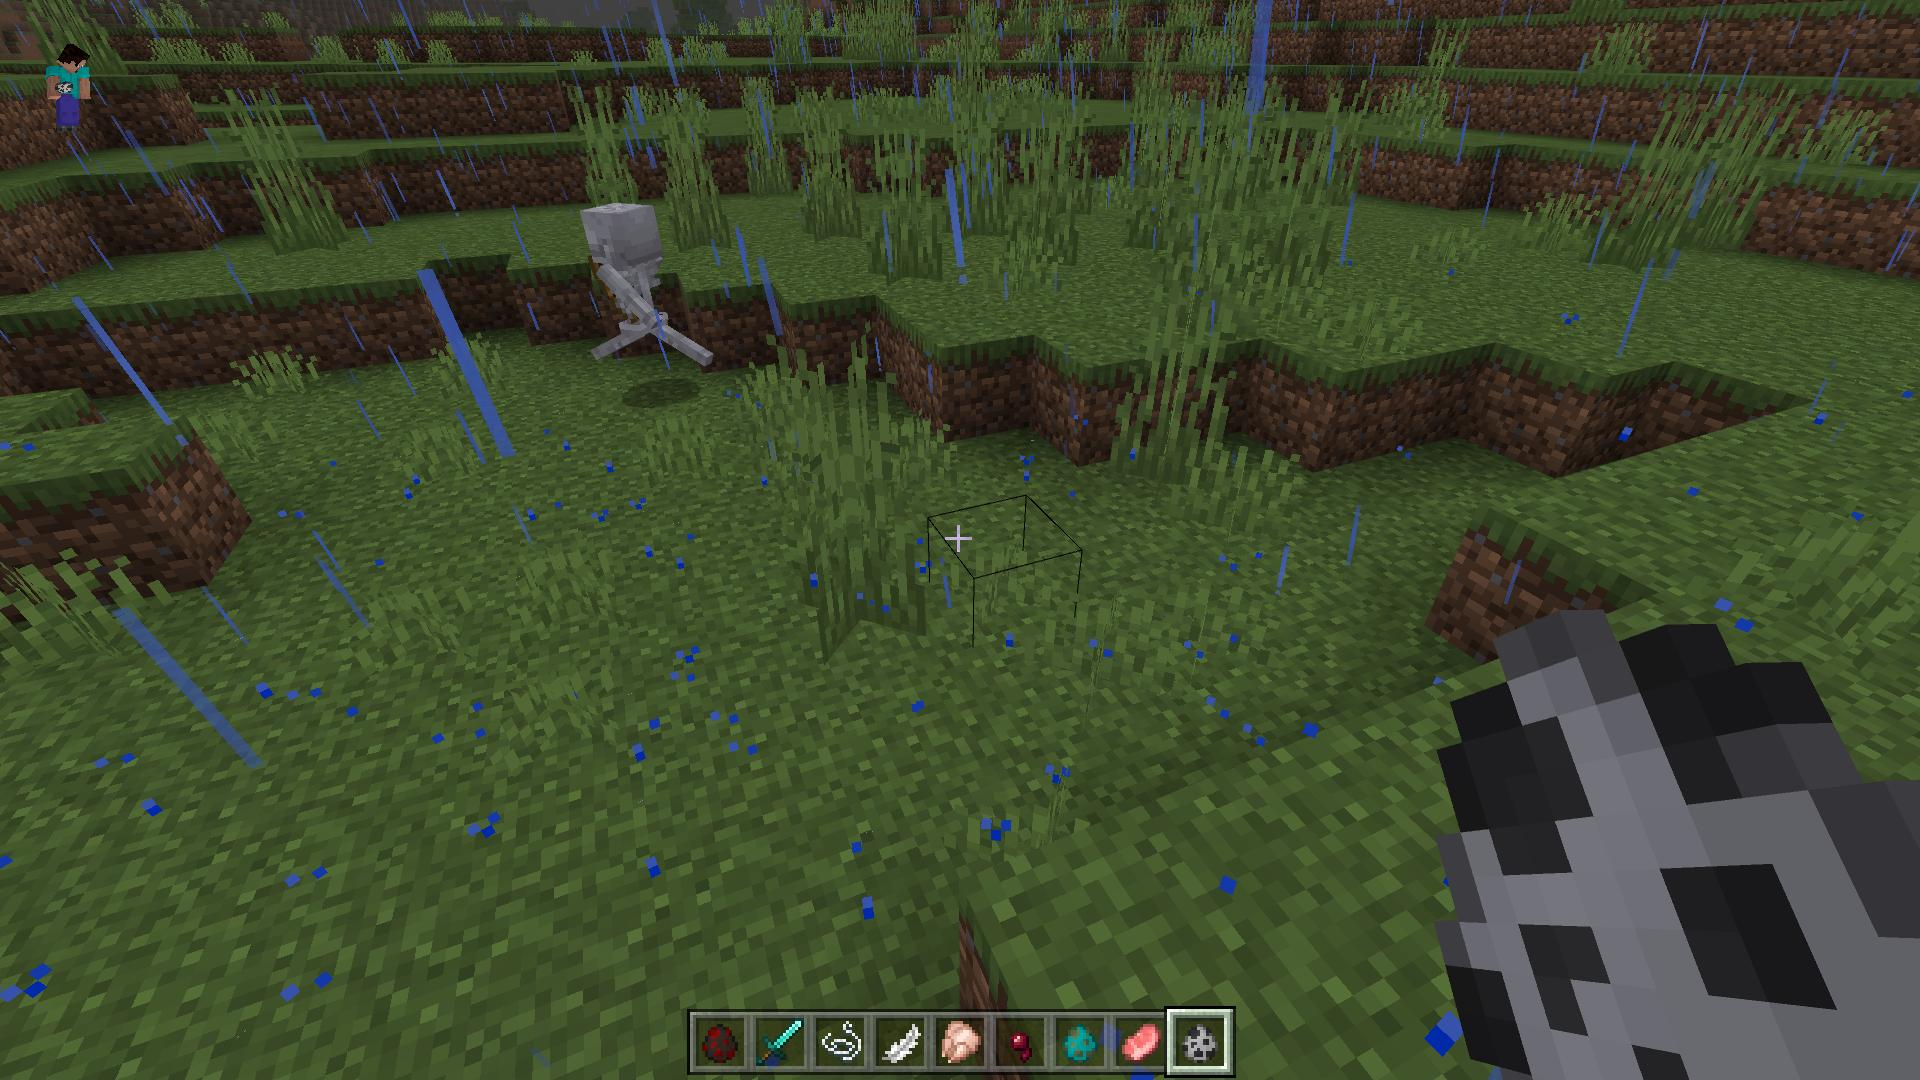skeleton: (583, 202, 720, 375)
